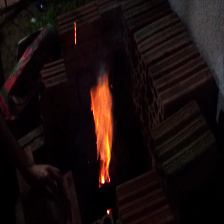fire_h: (89, 75, 112, 185)
fire_l: (74, 22, 77, 45), (106, 208, 110, 214)
